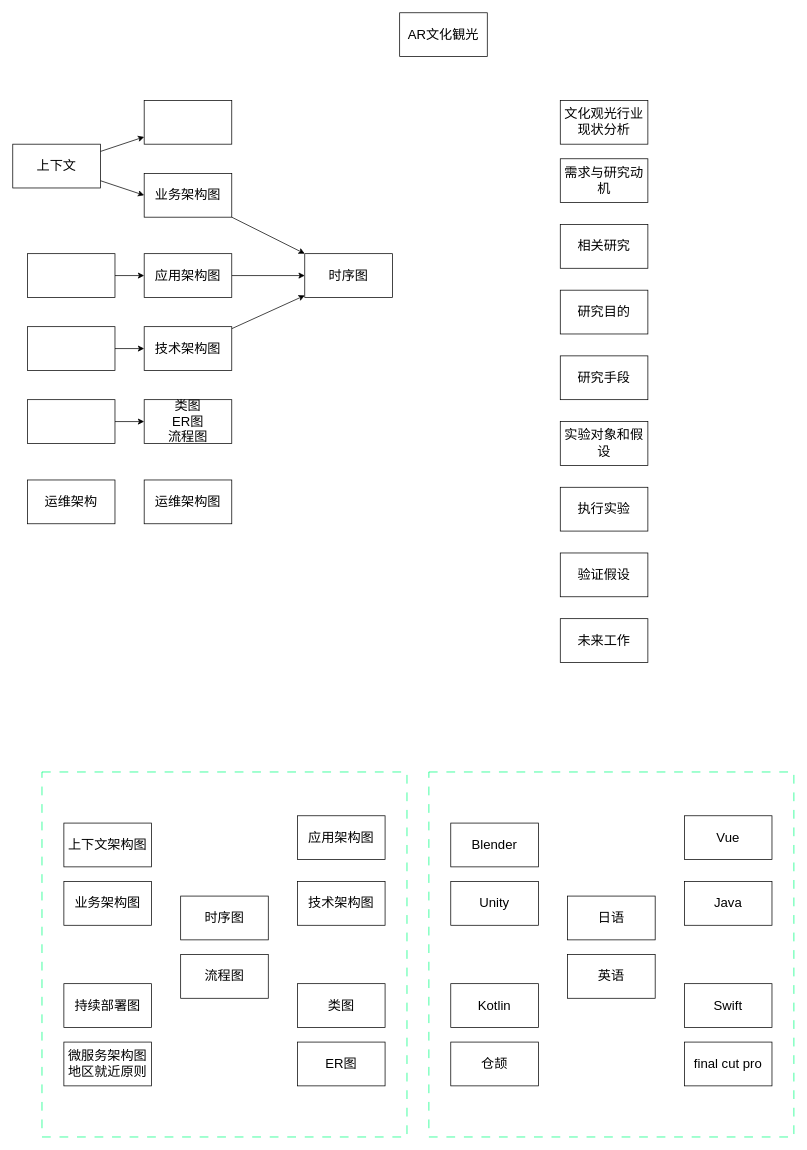
The diagram is 807 pixels wide and 1150 high, and some of its shapes have lost their labels. Here are the shapes that lost their labels. From the top down, the box of each, then its label:
(143, 100, 232, 144): 上下文架构
(27, 253, 115, 297): 容器
(27, 326, 115, 370): 组件
(27, 399, 115, 443): 代码
